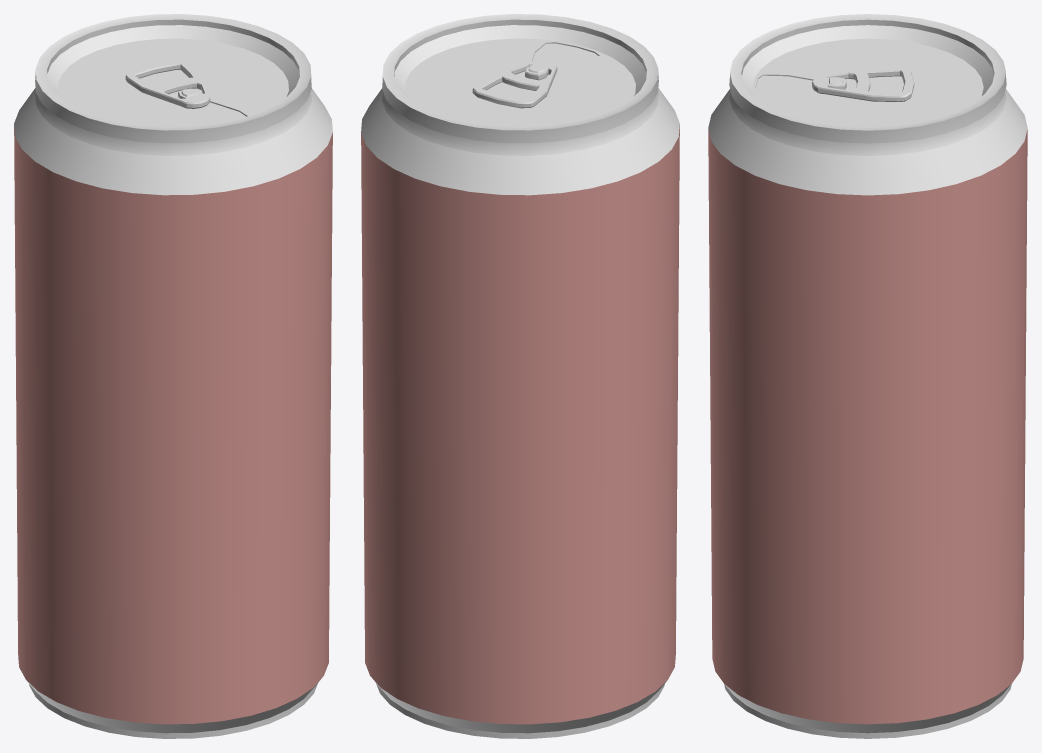
The model's file is Lata de Energia Model 1.fbx.
The picture shows the model from 3 angles, left to right: view 1: azimuth 30°, elevation 25°; view 2: azimuth 150°, elevation 25°; view 3: azimuth 270°, elevation 25°; orthographic projection.
Visible parts, largest first — view 1: Lata de metal; view 2: Lata de metal; view 3: Lata de metal.
Part boxes in pixels (bbox=[...]): Lata de metal: bbox=[14, 14, 332, 738]; Lata de metal: bbox=[361, 14, 679, 738]; Lata de metal: bbox=[708, 14, 1027, 738].
Bounding box in the file's own units: 100 × 100 × 209.
